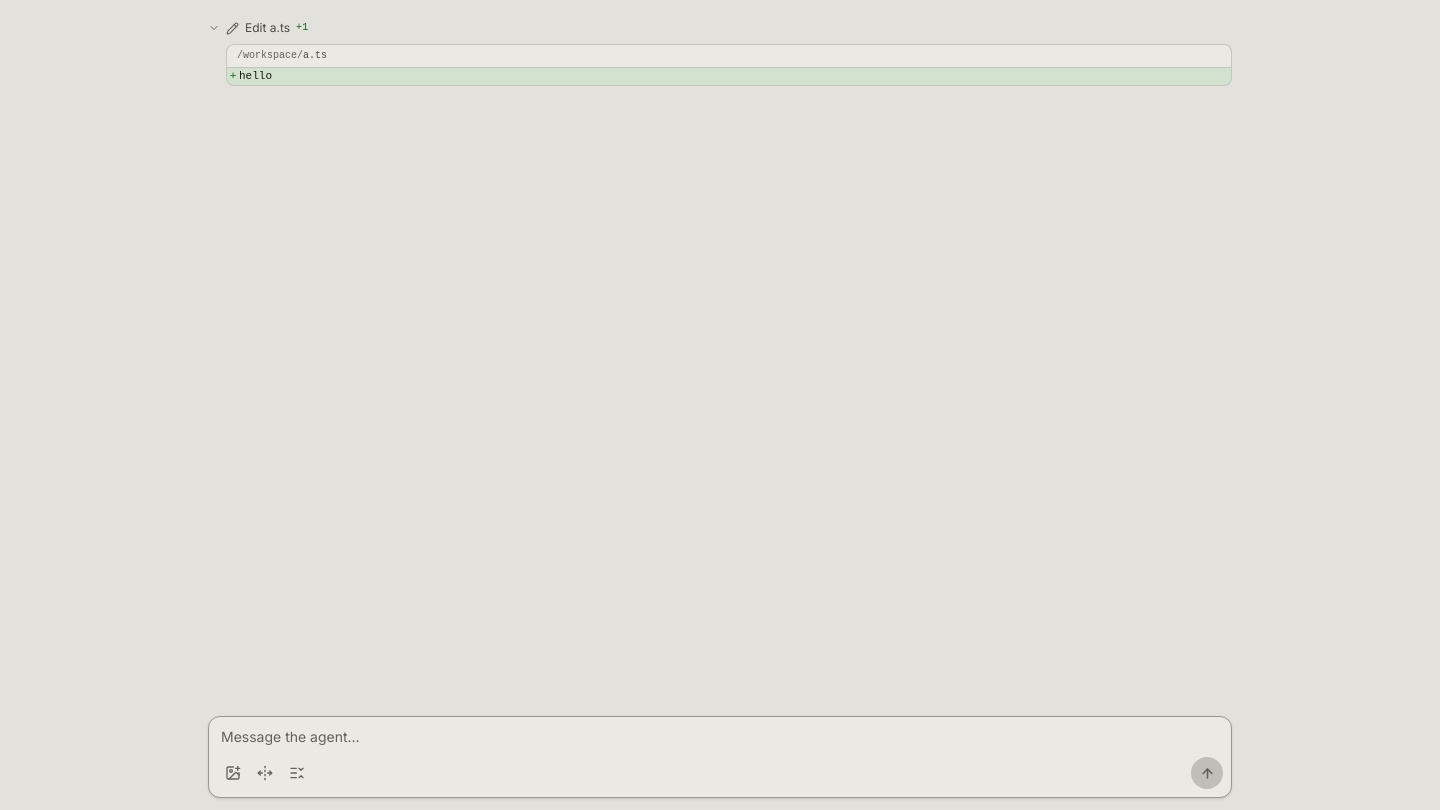
Scenario: WorkspaceChat rendering › lets the reader close an edit, and reopen it
Expected: the text "hello" is shown, [239,70,272,82]
Step 1. Click the text "Edit a.ts" → (268, 28), box [245,20,290,36]
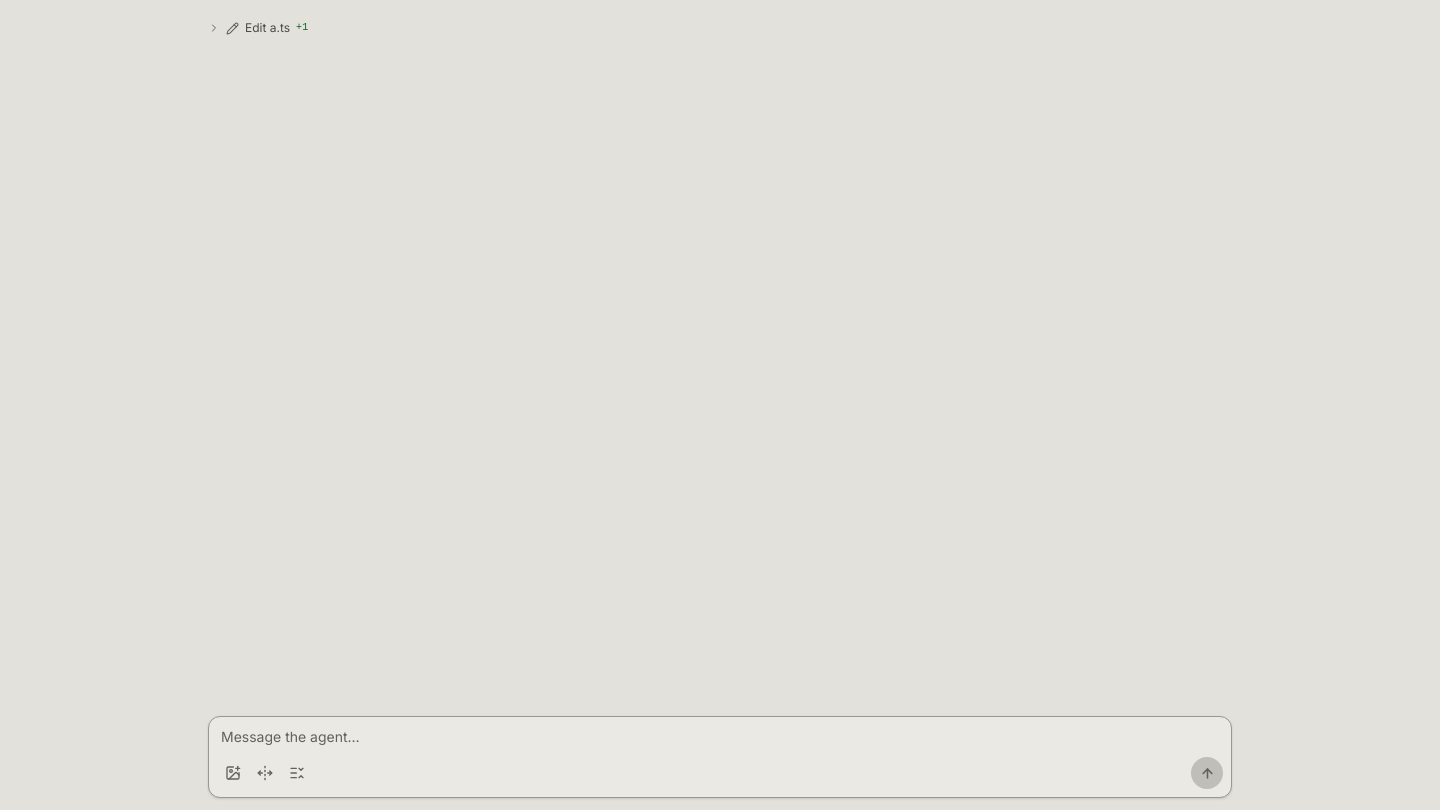
Now the element with class "diff-hl" is gone
Step 2. Click the text "Edit a.ts" → (268, 28), box [245,20,290,36]
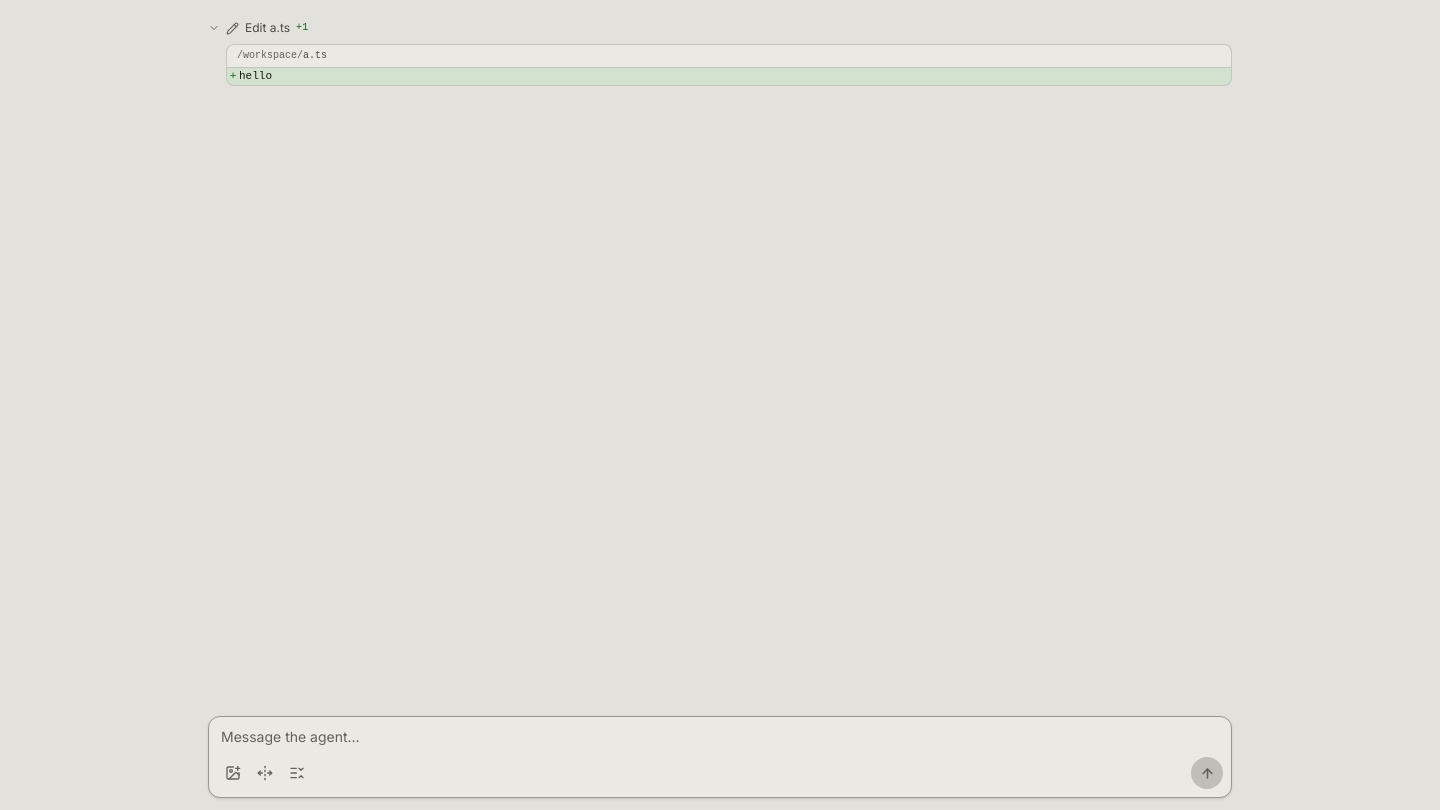
Now the text "hello" is shown, box [239,70,272,82]
